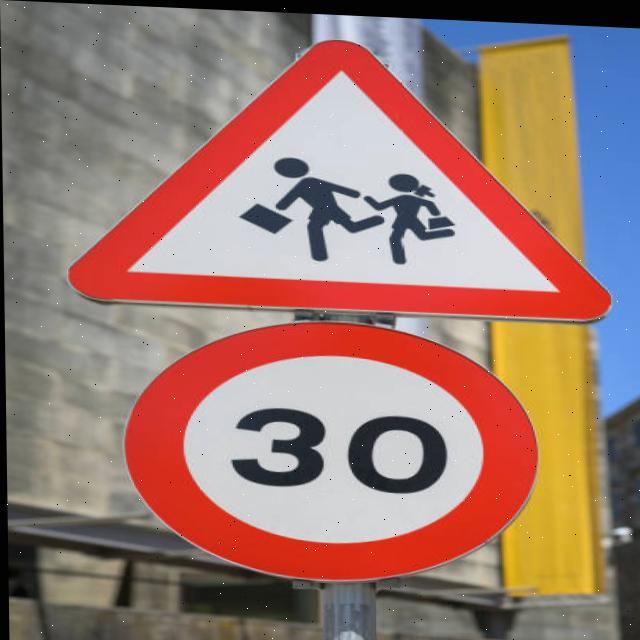Speed limit 30: (118, 309, 543, 589)
